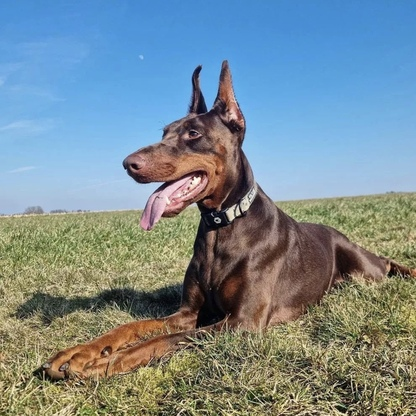doberman: (41, 57, 416, 387)
